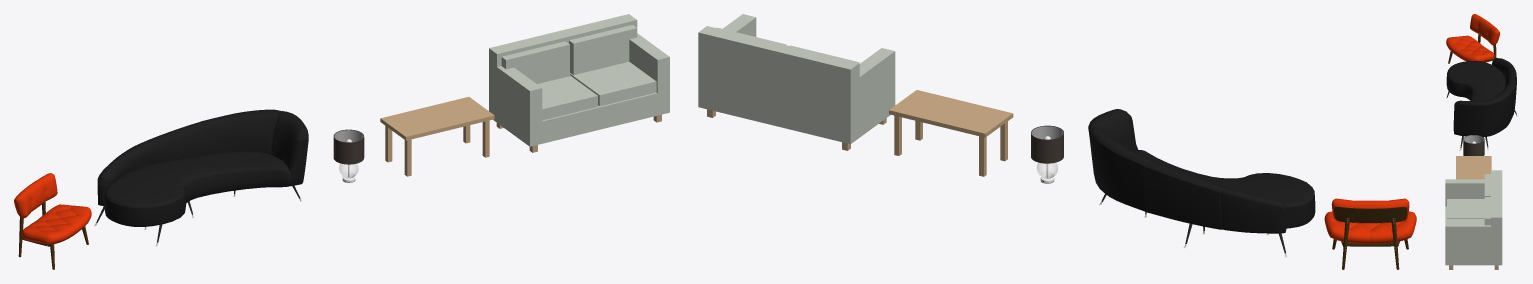
Rendered from showroom.glb.
3 views of the same model, side by side, from view 1: azimuth 30°, elevation 25°; view 2: azimuth 150°, elevation 25°; view 3: azimuth 270°, elevation 25° (orthographic). The views are drawn at different scales.
Parts seen in each view (by area): view 1: GlamVelvetSofa_fabric, frame, SheenChair_fabric, top, back1, seat1, backrest, back0, arm0, seat0, arm1, lamp (+1 smaller); view 2: GlamVelvetSofa_fabric, backrest, frame, top, SheenChair_fabric, arm0, SheenChair_wood, lamp, arm1; view 3: GlamVelvetSofa_fabric, SheenChair_fabric, arm1, frame, backrest, top, arm0, seat0, lamp, back1, seat1, back0 (+3 smaller).
Boxes of the visible parts, x1,y1,x2,y2 form: GlamVelvetSofa_fabric: (97, 109, 308, 226); frame: (489, 90, 669, 146); SheenChair_fabric: (14, 173, 91, 244); top: (380, 97, 494, 140); back1: (569, 25, 637, 75); seat1: (570, 61, 656, 106); backrest: (489, 14, 637, 99); back0: (501, 41, 569, 83); arm0: (489, 66, 542, 124); seat0: (537, 75, 597, 120); arm1: (629, 33, 669, 93); lamp: (333, 129, 364, 182); GlamVelvetSofa_fabric: (1088, 109, 1315, 233); backrest: (698, 26, 859, 119); frame: (698, 83, 895, 144); top: (889, 90, 1013, 137); SheenChair_fabric: (1324, 198, 1416, 243); arm0: (837, 48, 895, 119); SheenChair_wood: (1332, 207, 1408, 269); lamp: (1031, 125, 1063, 183); arm1: (698, 14, 756, 85); GlamVelvetSofa_fabric: (1446, 58, 1516, 137); SheenChair_fabric: (1446, 14, 1499, 61); arm1: (1445, 222, 1502, 249); frame: (1445, 206, 1502, 265); backrest: (1491, 170, 1502, 249); top: (1456, 156, 1491, 179); arm0: (1445, 179, 1484, 206); seat0: (1447, 199, 1484, 218); lamp: (1463, 135, 1484, 155); back1: (1484, 197, 1490, 225); seat1: (1447, 218, 1484, 222); back0: (1484, 174, 1490, 196).
Bounding box in the file's own units: 7.15 × 0.8401 × 1.03.
13 materials, 6 textured.
